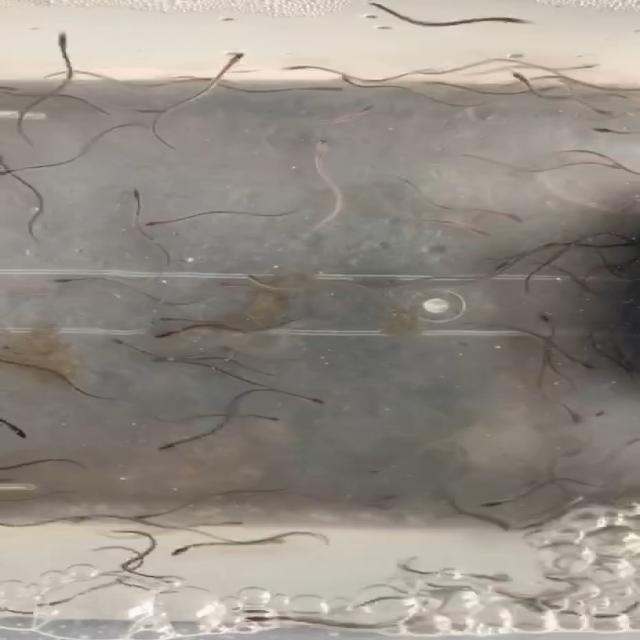active_glass_eel: (484, 10, 554, 30), (336, 102, 394, 126), (38, 27, 88, 52), (482, 208, 536, 226), (309, 134, 352, 155), (234, 608, 284, 626), (165, 542, 207, 562), (472, 490, 499, 520), (6, 426, 46, 444), (152, 572, 190, 590), (109, 332, 143, 352), (534, 310, 570, 328), (46, 270, 82, 288), (143, 436, 185, 451), (140, 218, 178, 234), (283, 64, 323, 79), (499, 68, 534, 85), (112, 184, 154, 198), (584, 122, 620, 138), (216, 50, 256, 64), (146, 314, 192, 326), (598, 158, 628, 176), (150, 324, 177, 344), (224, 518, 262, 532), (576, 359, 600, 379), (257, 412, 291, 426), (302, 394, 333, 409), (124, 508, 152, 522), (458, 226, 500, 234), (592, 108, 624, 118), (342, 74, 358, 88)
